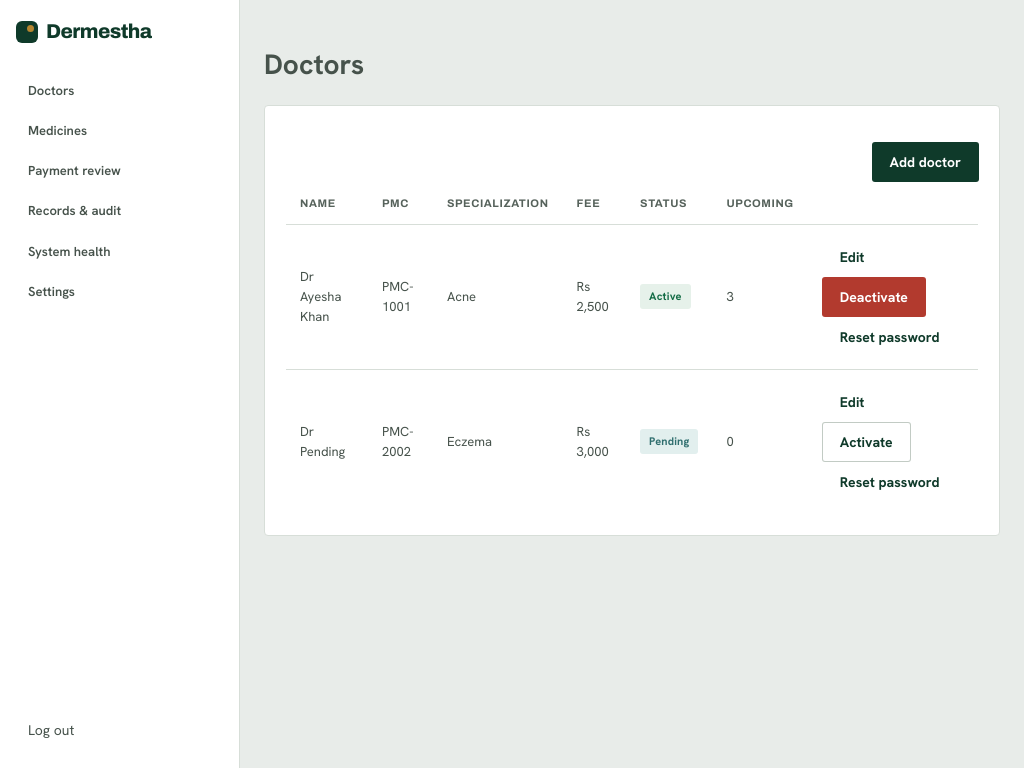
Test: AdminDoctors (A-01) › cancelling the reset modal clears the typed password and stale error
Expected: the text "Dr Ayesha Khan" is shown, [286,224,368,369]
# open reset modal on d1, type a password, submit to trigger error
Click the button "Reset password" below "Rs 2,500" at [890, 337], box [822,317,958,357]
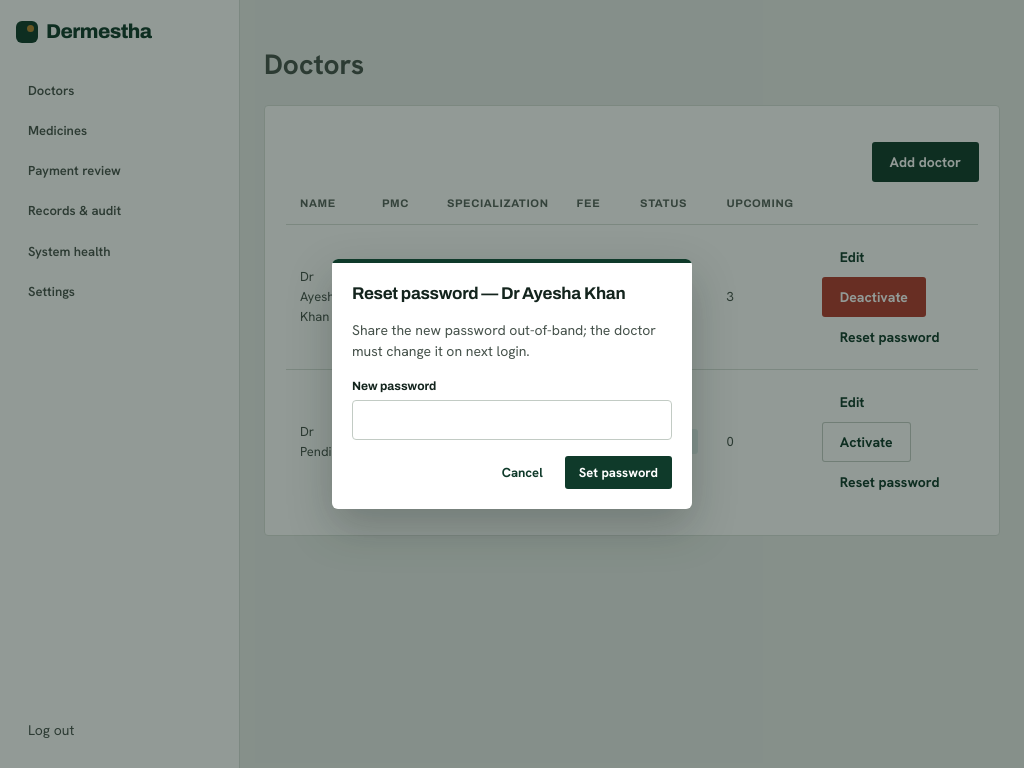
Type "weak" into the password field labelled "New password" at [512, 420], box [352,400,672,440]
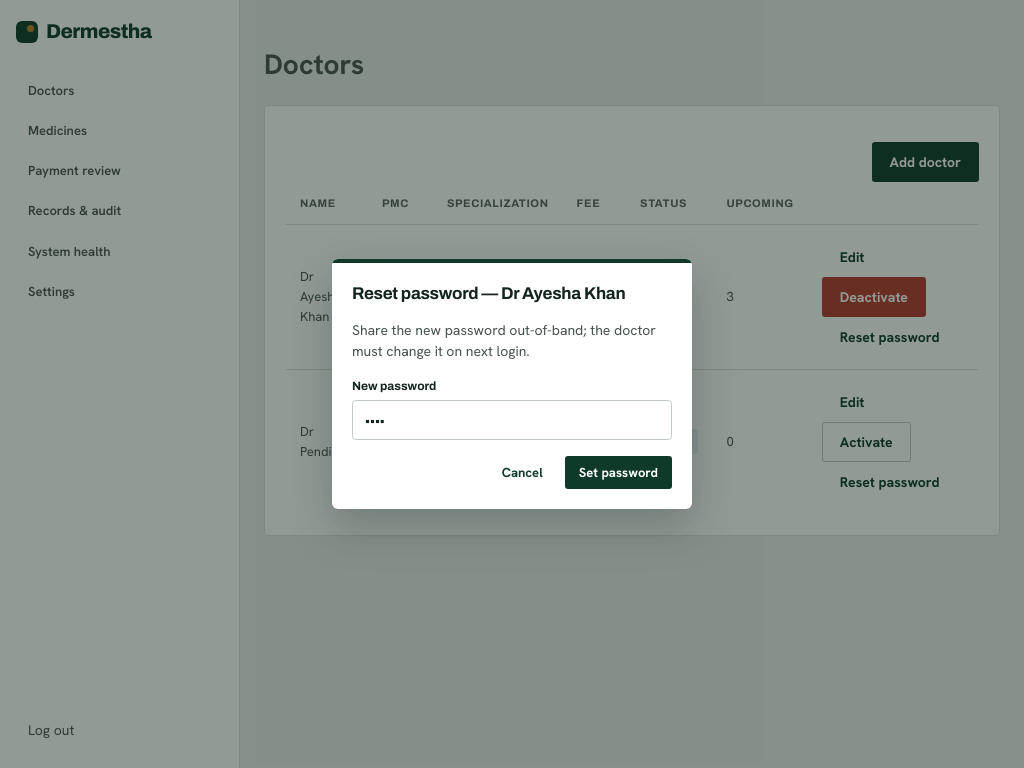
Click the button "Set password" at [618, 472], box [565,456,672,488]
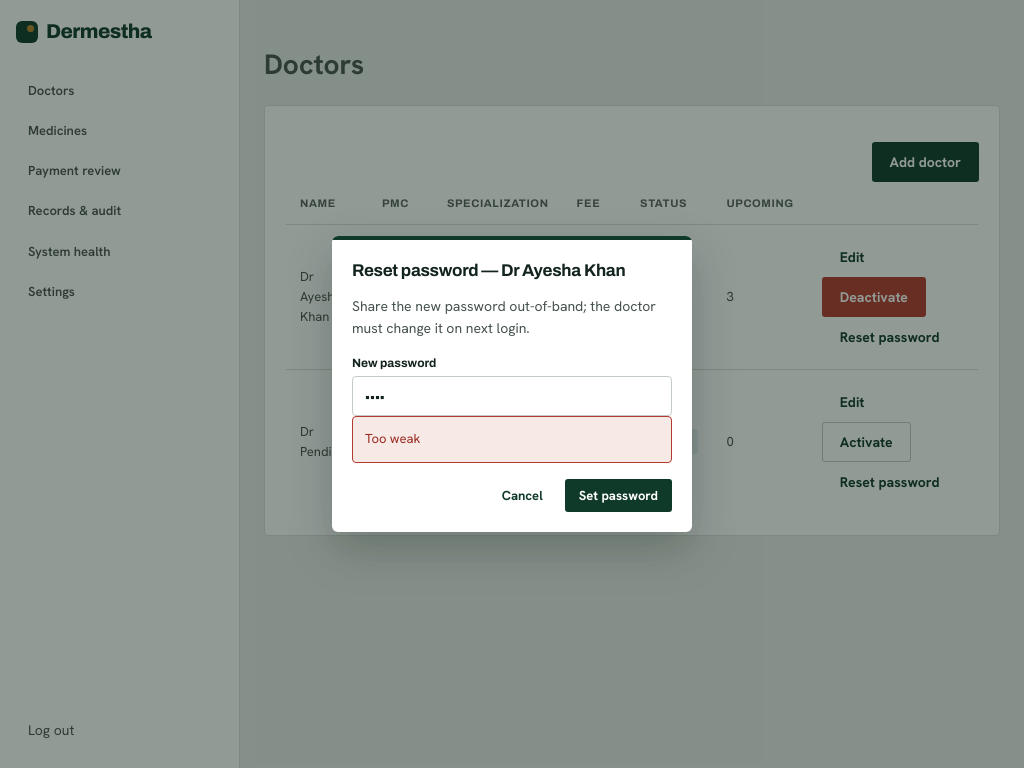
Now the text "Too weak" is shown, box [352,416,672,463]
# cancel — should clear password state and mutation error
Click the button "Cancel" at [522, 495], box [488,479,557,512]
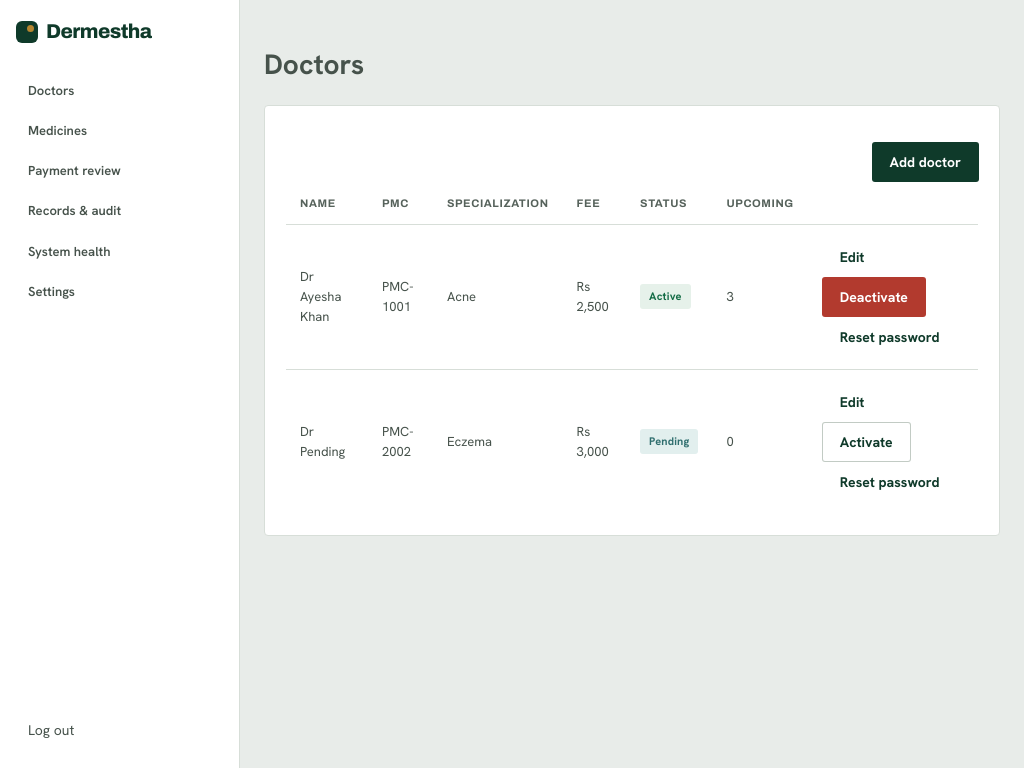
# re-open reset modal (d1's button)
Click the button "Reset password" below "Rs 2,500" at [890, 337], box [822,317,958,357]
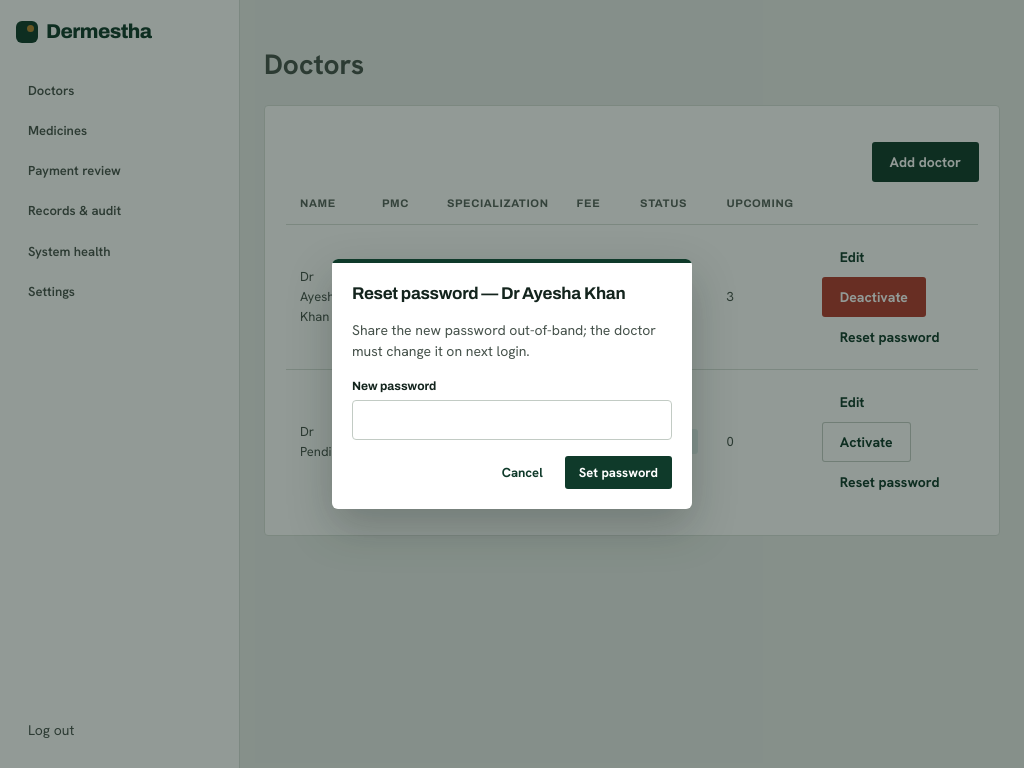
Expected: the text "Too weak" is not shown
Now the password field labelled "New password" is empty, box [352,400,672,440]
